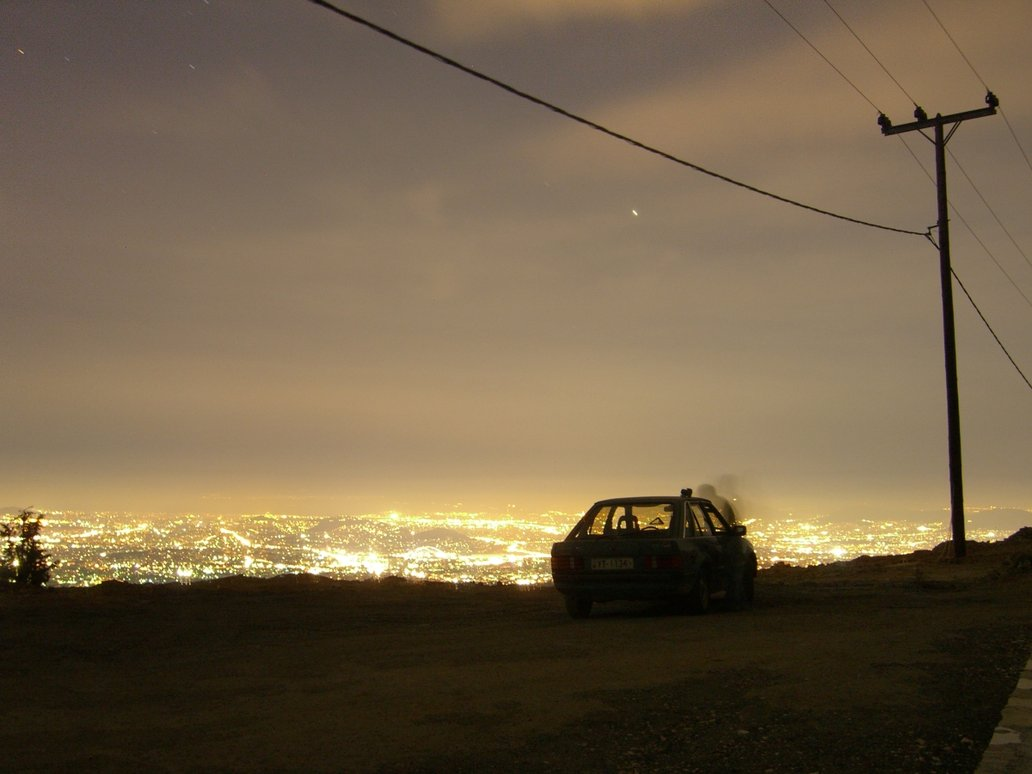car: (544, 478, 766, 632)
